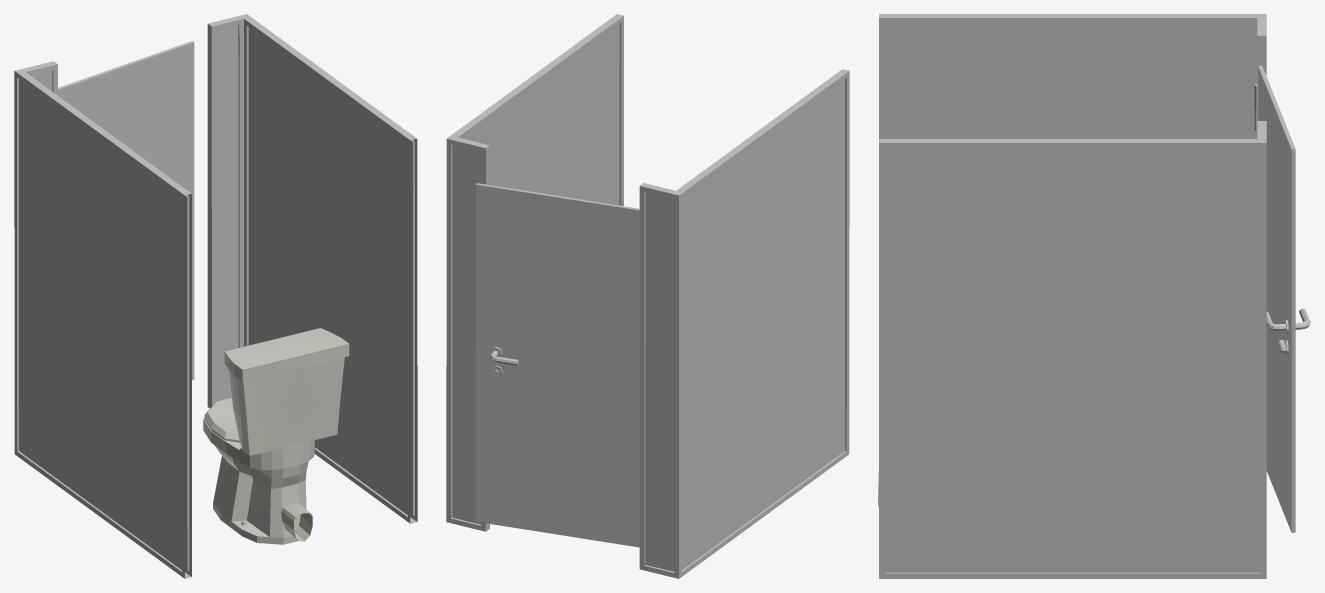
The model's file is Toilet cabine.fbx.
3 renders of one model, left to right at view 1: azimuth 30°, elevation 25°; view 2: azimuth 150°, elevation 25°; view 3: azimuth 270°, elevation 25°, orthographic. The views are drawn at different scales.
Parts seen in each view (by area): view 1: Toilet_cabine, Toilet, Toilet_001; view 2: Toilet_cabine; view 3: Toilet_cabine.
Boxes of the visible parts, left/top/right/bottom form: Toilet_cabine: left=14, top=14, right=417, bottom=578; Toilet: left=203, top=328, right=349, bottom=544; Toilet_001: left=204, top=398, right=238, bottom=438; Toilet_cabine: left=446, top=14, right=849, bottom=578; Toilet_cabine: left=879, top=14, right=1295, bottom=578.
Bounding box in the file's own units: 150 × 236 × 212.
